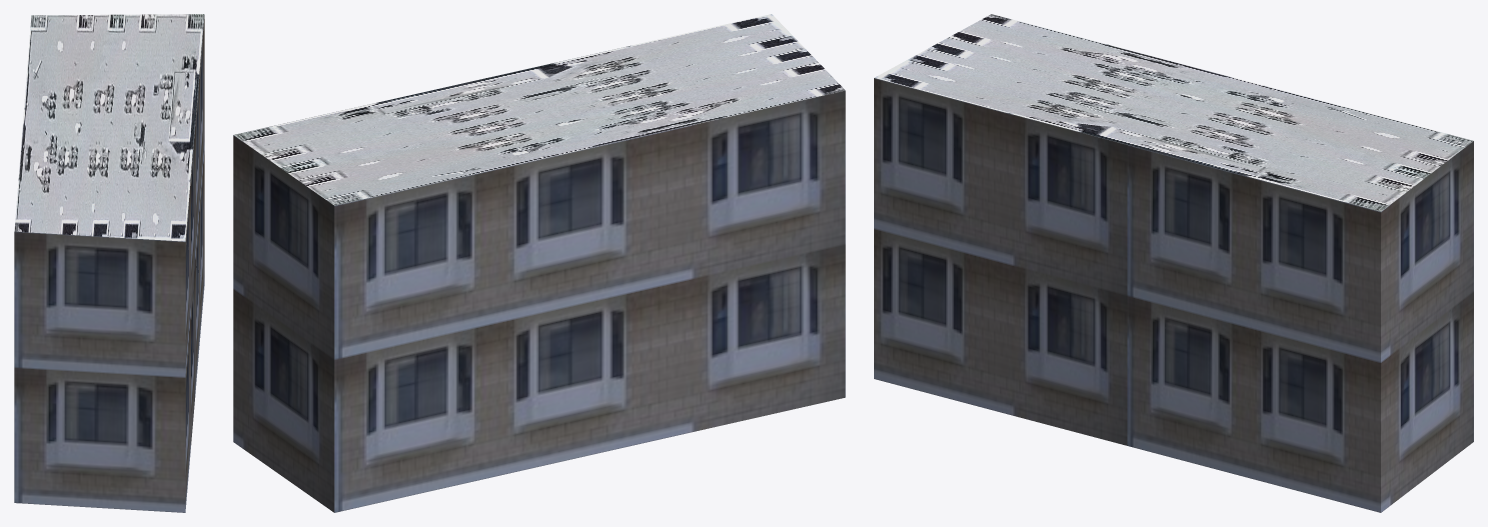
Rendered from ResTex__3315.fbx.
3 views of the same model, side by side, from view 1: azimuth 30°, elevation 25°; view 2: azimuth 150°, elevation 25°; view 3: azimuth 270°, elevation 25° (orthographic). The views are drawn at different scales.
Parts seen in each view (by area): view 1: CityEngineMaterial_3_m, CityEngineMaterial_8_m; view 2: CityEngineMaterial_3_m, CityEngineMaterial_8_m; view 3: CityEngineMaterial_3_m, CityEngineMaterial_8_m.
Boxes of the visible parts, left/top/right/bottom form: CityEngineMaterial_3_m: left=14, top=15, right=204, bottom=512; CityEngineMaterial_8_m: left=14, top=14, right=204, bottom=241; CityEngineMaterial_3_m: left=233, top=90, right=845, bottom=512; CityEngineMaterial_8_m: left=234, top=14, right=845, bottom=205; CityEngineMaterial_3_m: left=874, top=78, right=1473, bottom=512; CityEngineMaterial_8_m: left=874, top=14, right=1473, bottom=211.
Bounding box in the file's own units: 8.46 × 6 × 10.83.
2 materials, 2 textured.
